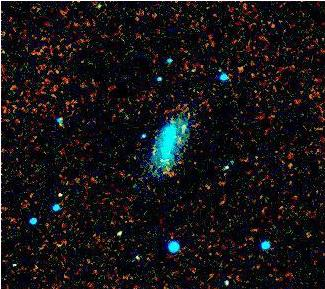star: (45, 178, 75, 208)
